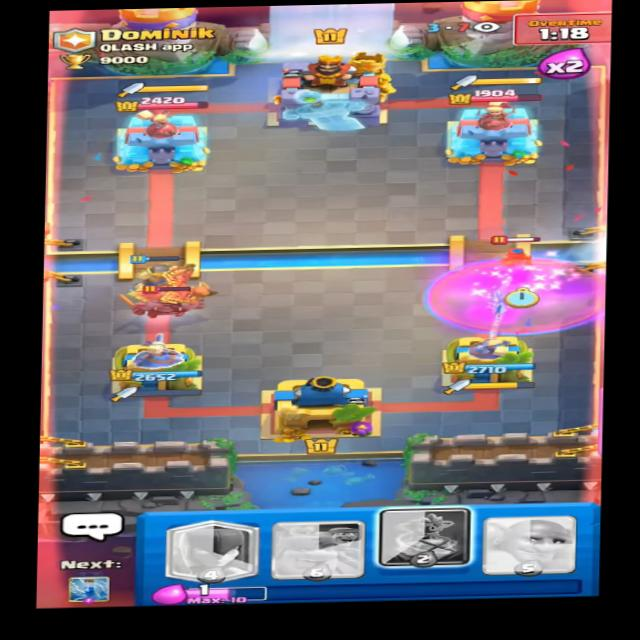pekka: (127, 280, 214, 329)
ram-rider: (489, 232, 553, 283)
